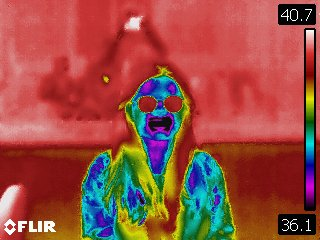human: (78, 64, 237, 240)
